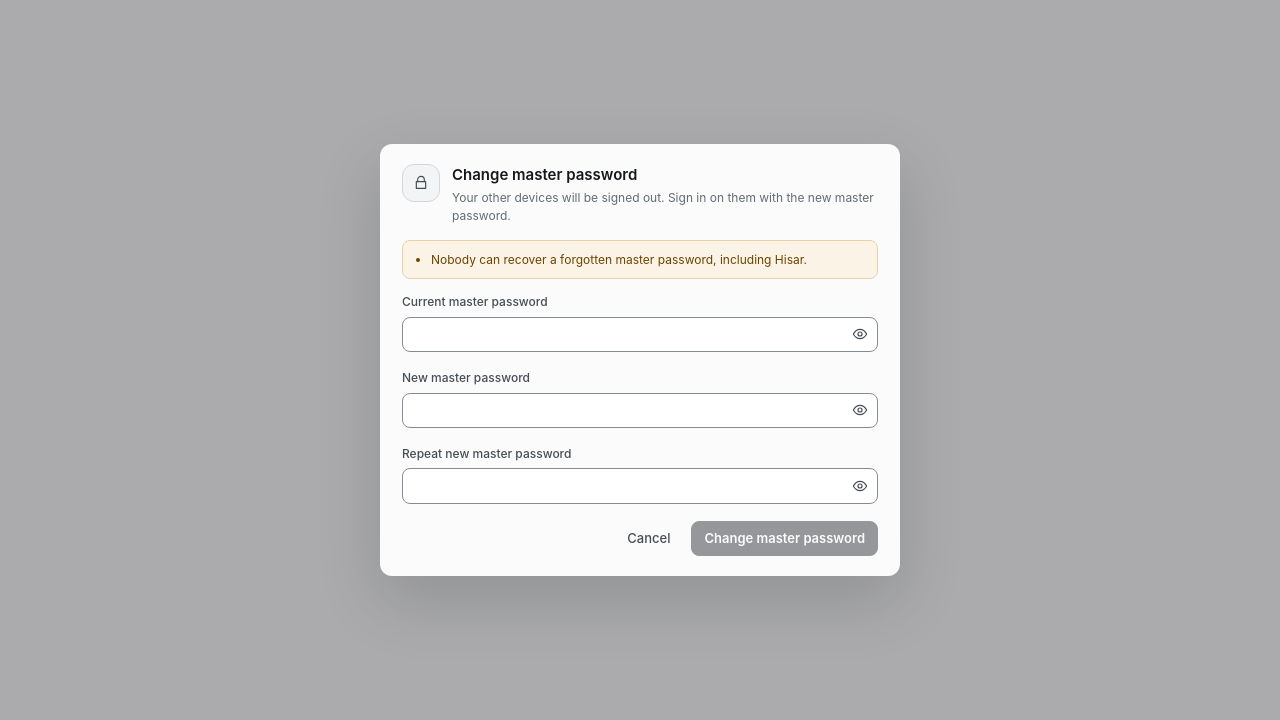
Test case: Change master password › refuses the current password as the new one and says so
The image size is (1280, 720).
Type "orange cactus harbor lantern" into the password field named "currentPassword" at coordinates (640, 334), box [402, 317, 878, 352]
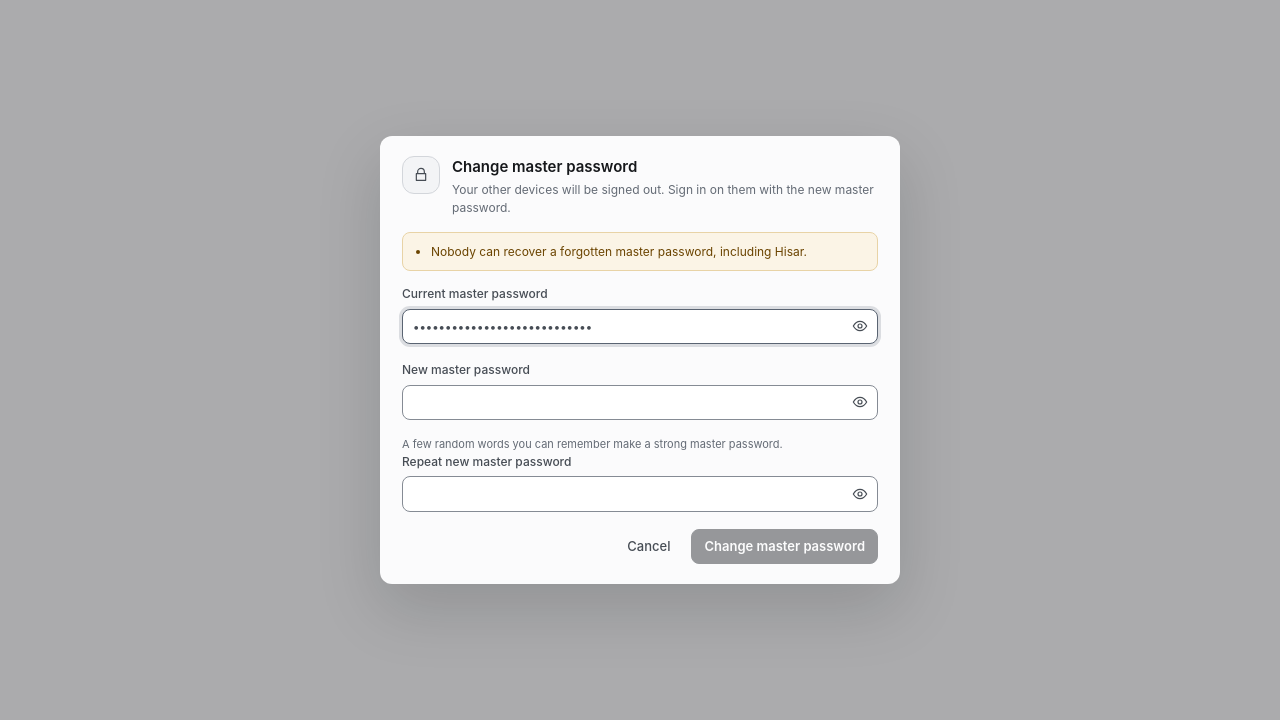
Type "orange cactus harbor lantern" into the password field named "newPassword" at coordinates (640, 402), box [402, 385, 878, 420]
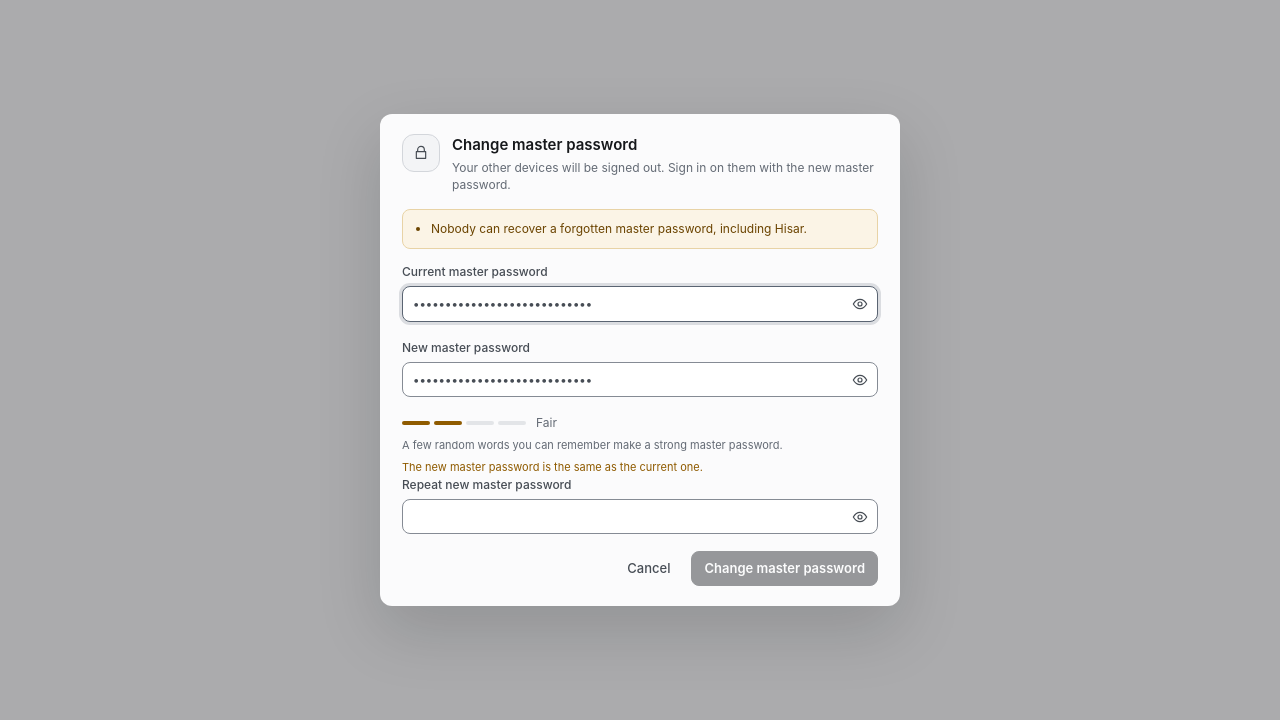
Type "orange cactus harbor lantern" into the password field named "repeatedPassword" at coordinates (640, 517), box [402, 499, 878, 534]
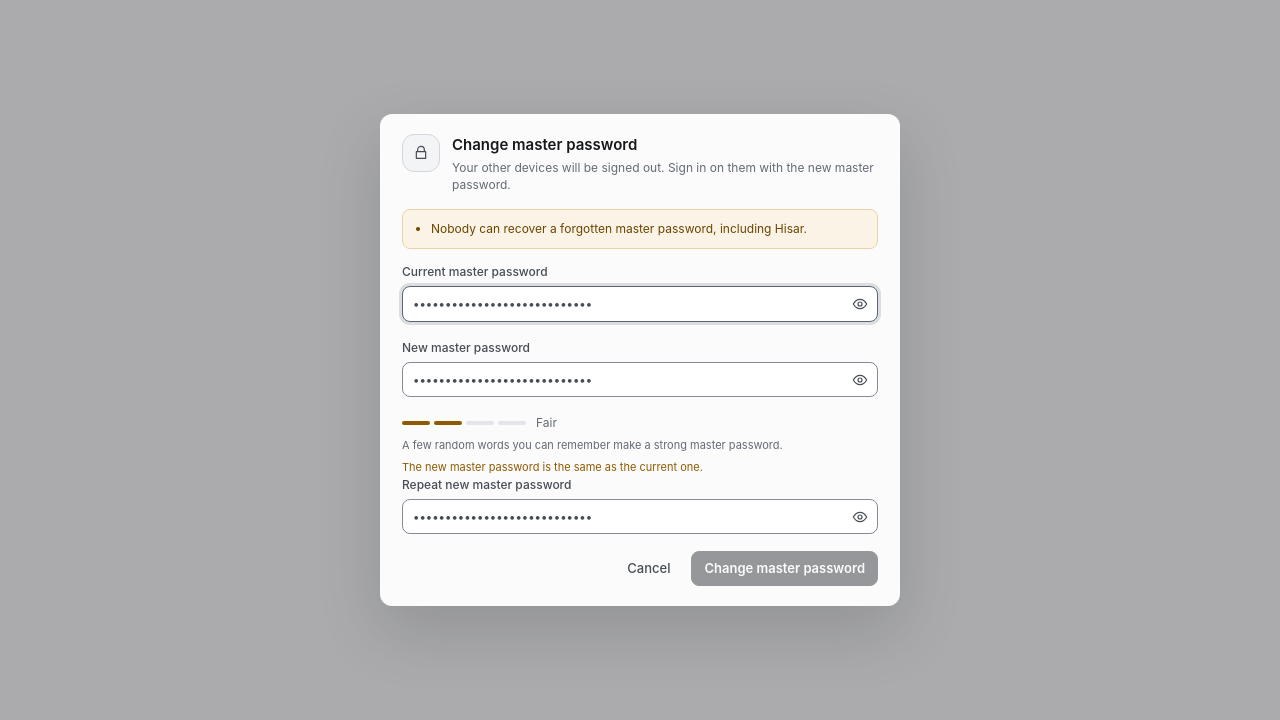
Expected: the button with test id "confirm-change-master-password" is disabled, [691, 551, 878, 586]
Now the text with test id "new-password-same" reads "The new master password is the same as the current one.", box [402, 460, 703, 474]
Submit the form, box [402, 209, 878, 586]
Type "current password" into the password field named "currentPassword" at coordinates (640, 304), box [402, 286, 878, 322]
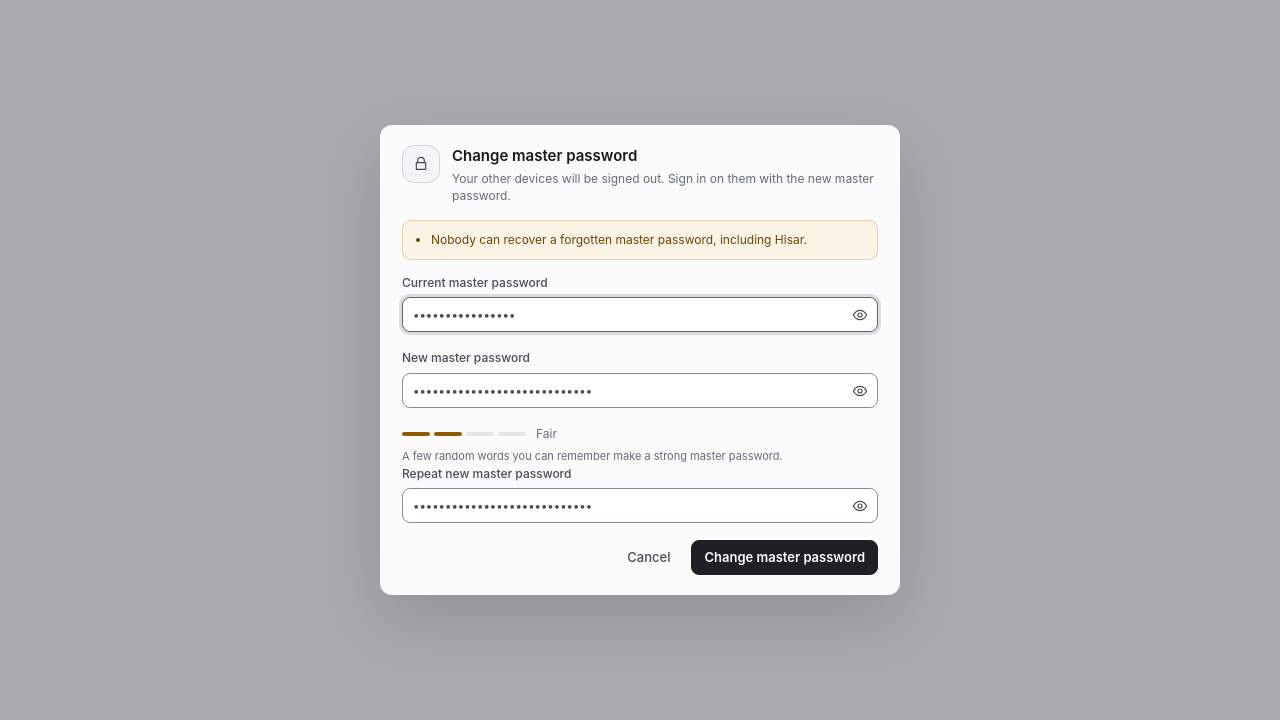
Now the button with test id "confirm-change-master-password" is enabled, box [691, 540, 878, 575]
